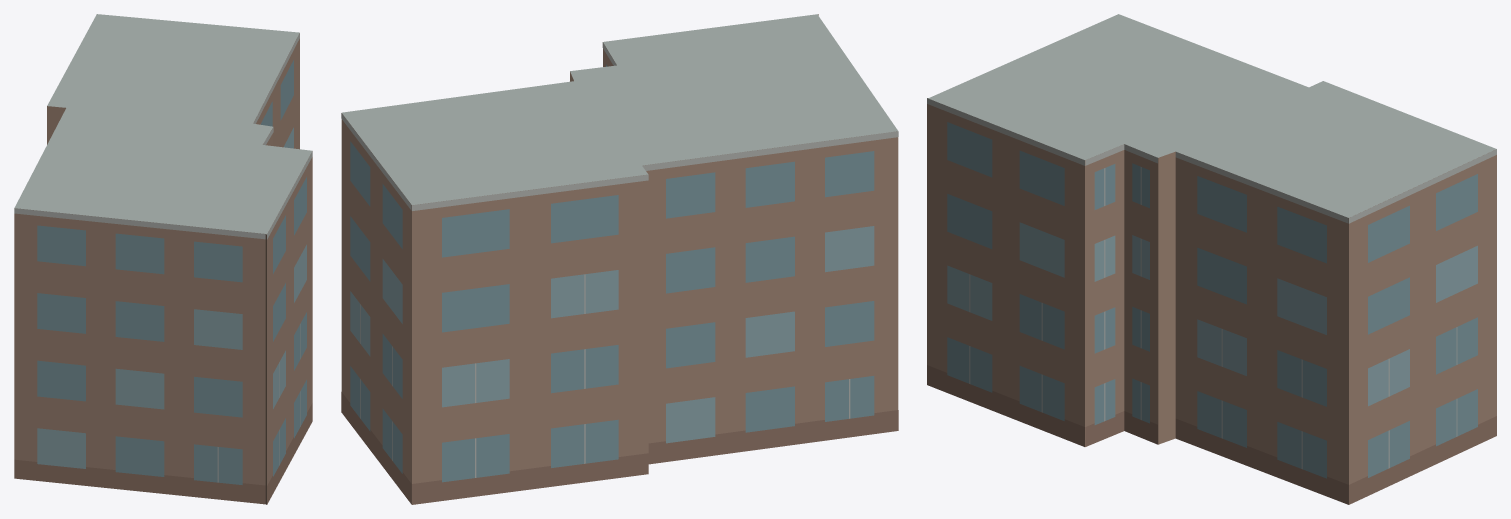
File: survey-upis-32778405.glb
The picture shows the model from 3 angles, left to right: view 1: azimuth 30°, elevation 25°; view 2: azimuth 150°, elevation 25°; view 3: azimuth 270°, elevation 25°; orthographic projection. The views are drawn at different scales.
Visible parts, largest first — view 1: survey-upis-32778405.tmp; view 2: survey-upis-32778405.tmp; view 3: survey-upis-32778405.tmp.
Boxes of the visible parts, <box> form: survey-upis-32778405.tmp: <box>14,14,312,504</box>; survey-upis-32778405.tmp: <box>341,14,898,504</box>; survey-upis-32778405.tmp: <box>927,14,1496,504</box>.
Size of the model in its own units: 18.61 by 12.2 by 21.97.
